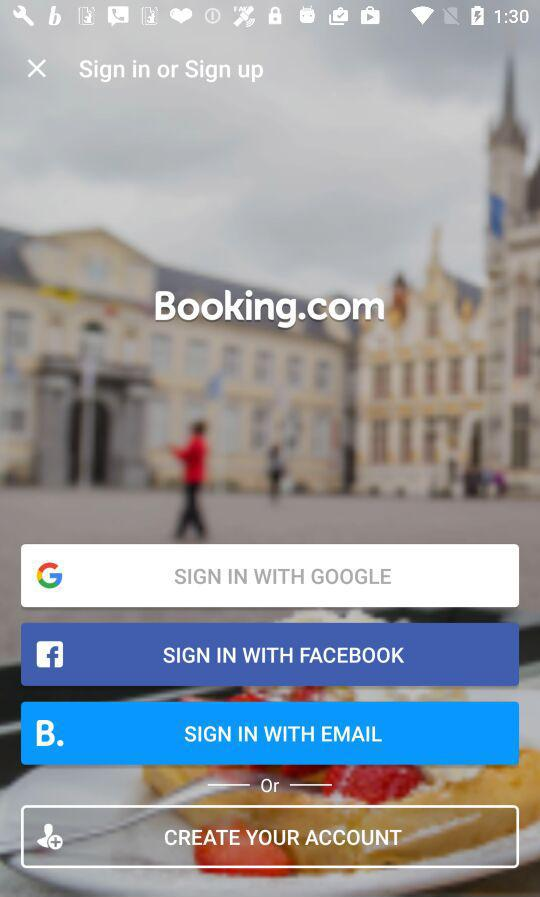BackgroundImage: (1, 29, 540, 897)
Icon: (27, 59, 49, 79)
Text: (155, 290, 385, 330), (79, 59, 265, 84), (261, 778, 280, 793)
TextButton: (22, 805, 520, 869), (21, 701, 519, 765), (22, 544, 520, 608), (22, 623, 519, 686)
UpperTaskBar: (1, 1, 540, 29)
